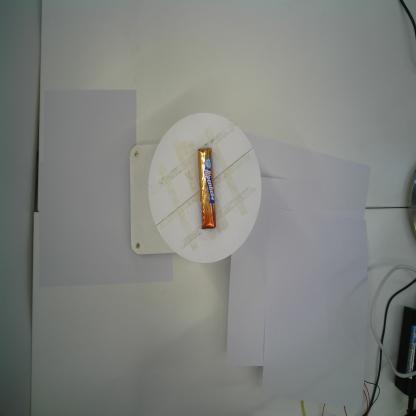Candy: (198, 148, 216, 230)
